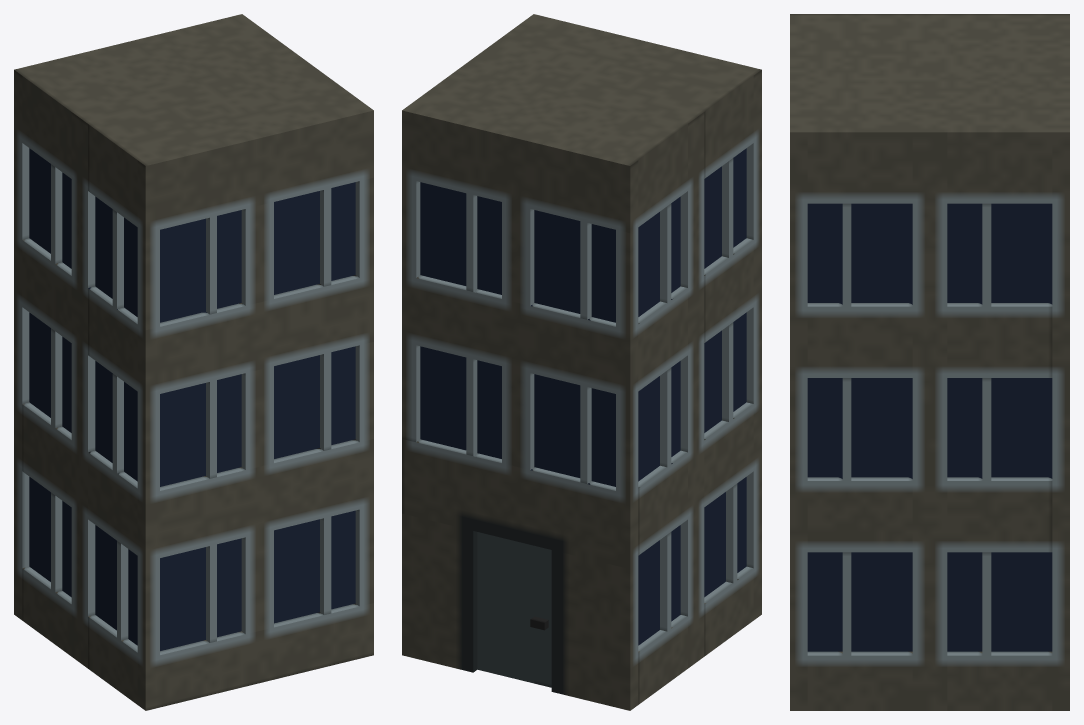
The model's file is budynek_uni2_5.dae.
The picture shows the model from 3 angles, left to right: view 1: azimuth 30°, elevation 25°; view 2: azimuth 150°, elevation 25°; view 3: azimuth 270°, elevation 25°; orthographic projection. The views are drawn at different scales.
Parts seen in each view (by area): view 1: Content; view 2: Content; view 3: Content.
Part boxes in pixels (x1,y1,x2,y2): Content: (14,14,373,710); Content: (402,14,761,710); Content: (790,14,1069,710).
Bounding box in the file's own units: 32 × 73 × 32.
1 material, 1 textured.
